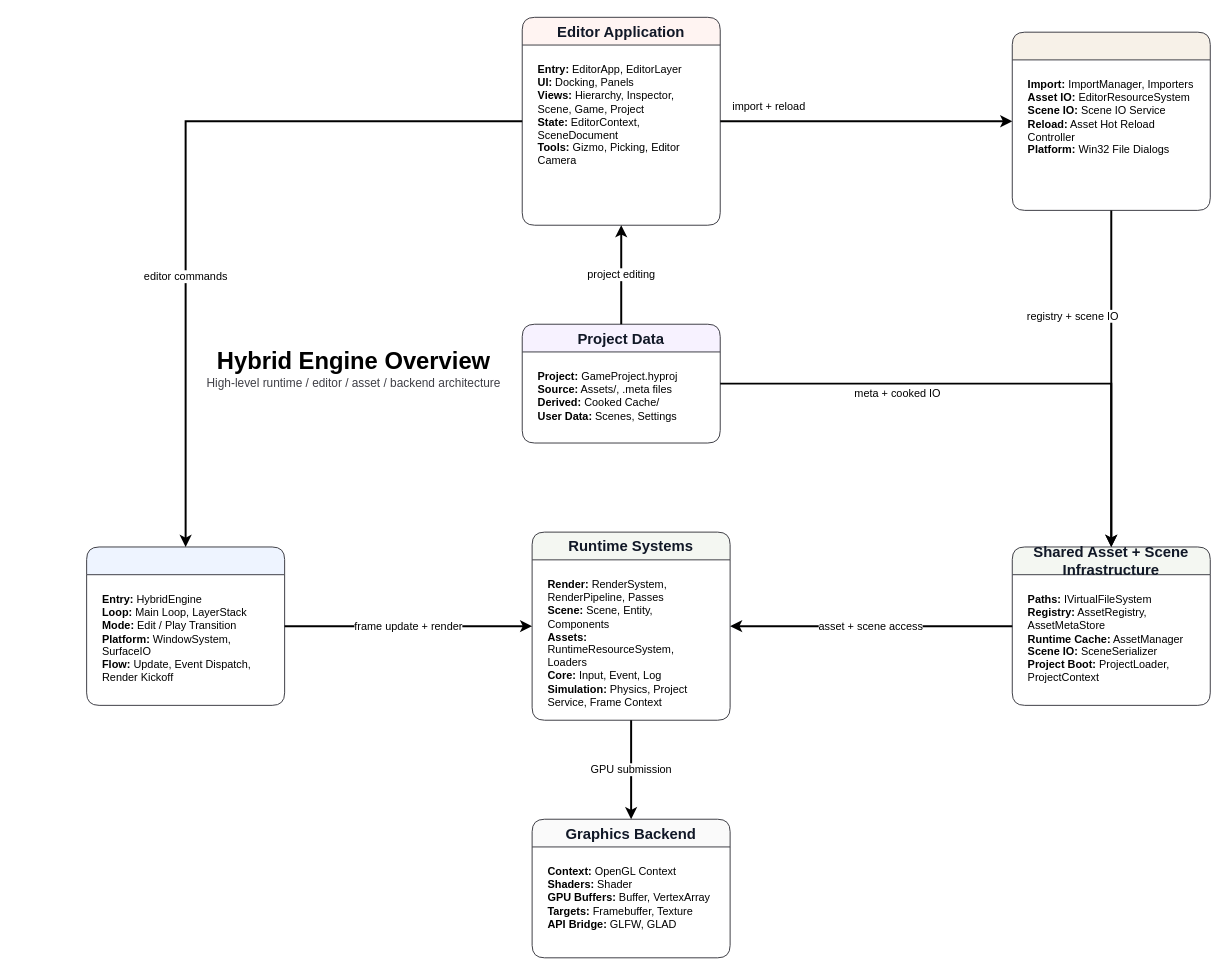
Some shapes in this 1228 by 975 pixel diagram are drawn without their labels. Here are the shapes that lost their labels. From the top down, the box of each, then its label:
(1011, 31, 1210, 210): Editor Services
(86, 546, 285, 705): Engine Host
